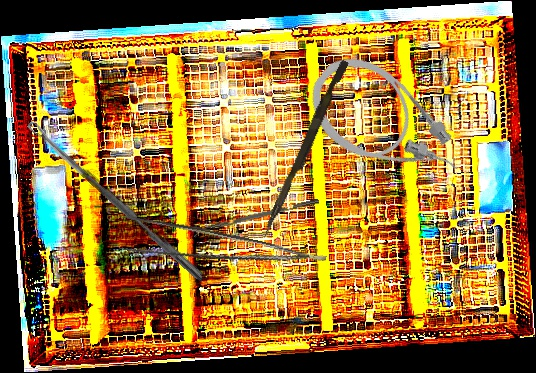Cannula: (294, 40, 476, 213)
Chopper: (192, 198, 321, 239)
Pusher: (261, 57, 349, 242)
Surgical Spoon: (26, 118, 208, 284)
Tissue Forceps: (110, 208, 327, 295)
